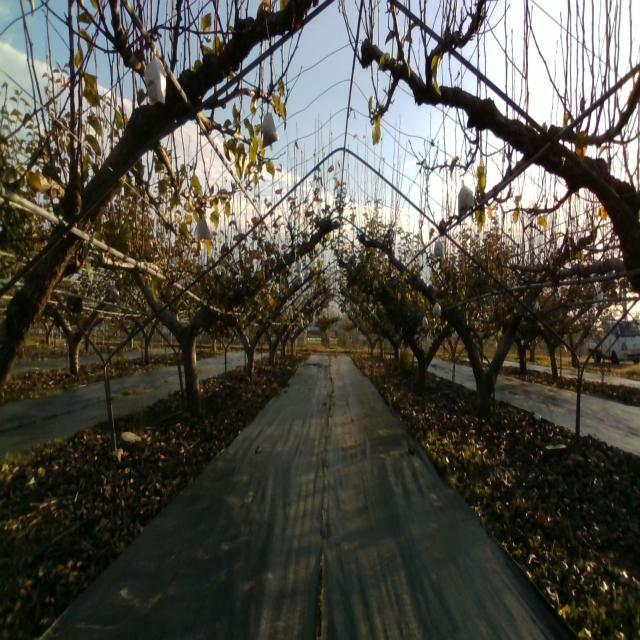pearbags: (144, 40, 167, 105), (261, 105, 279, 148), (458, 179, 475, 217), (195, 213, 214, 241), (434, 237, 444, 259)
